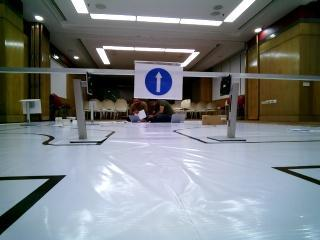straight: (134, 61, 182, 101)
